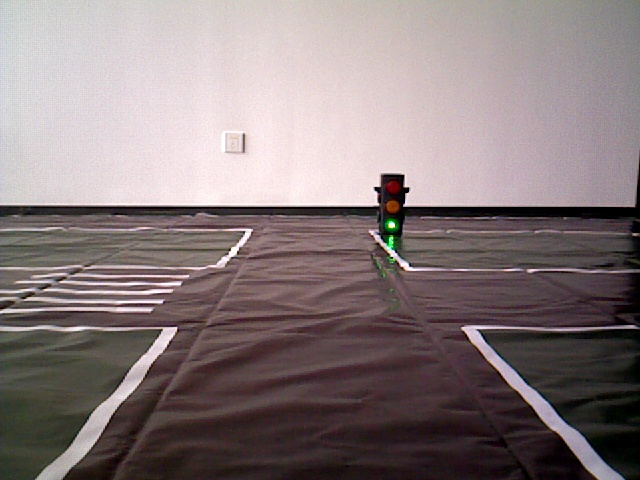green: (383, 171, 403, 230)
